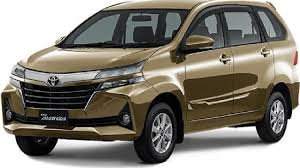mobil: (1, 1, 300, 168)
